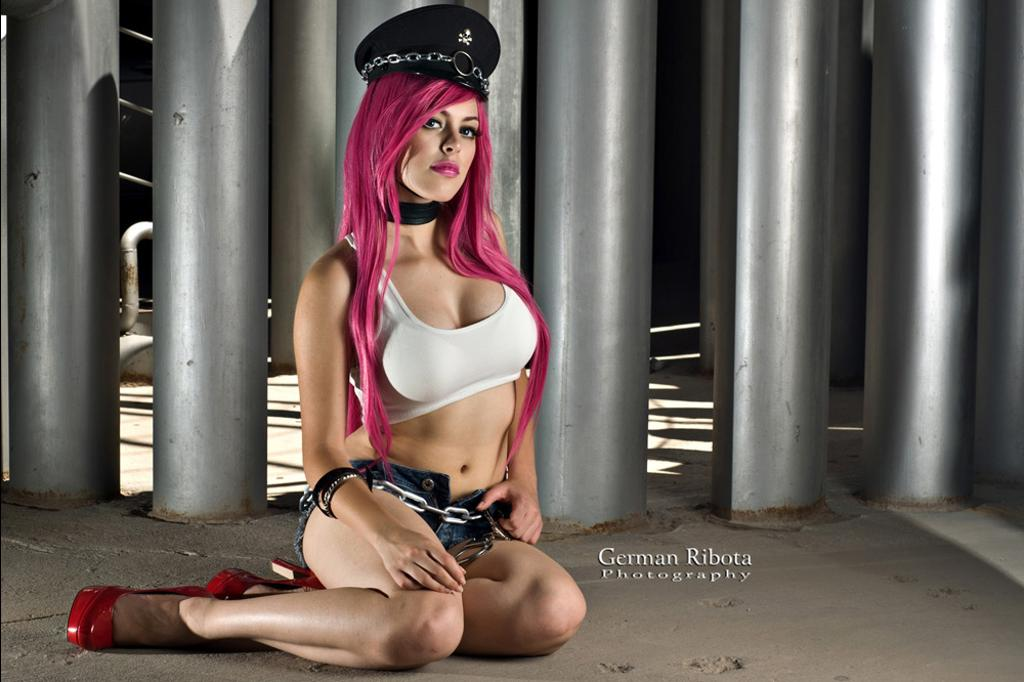face: (398, 92, 474, 202)
